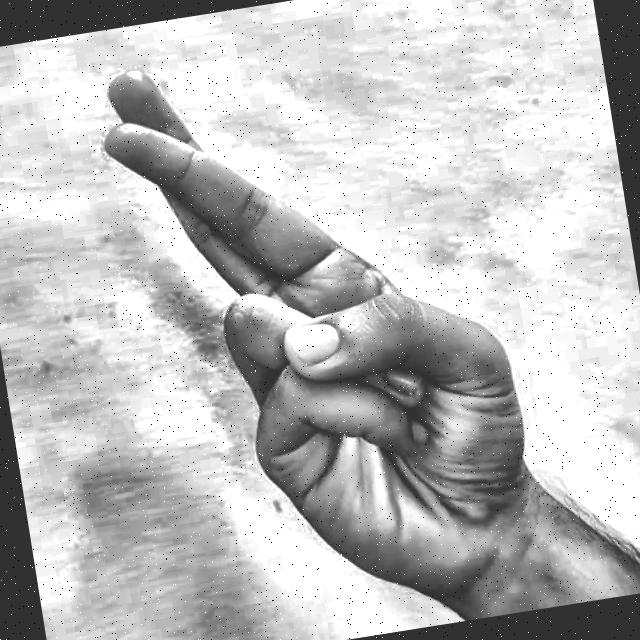Ra: (54, 0, 590, 640)
